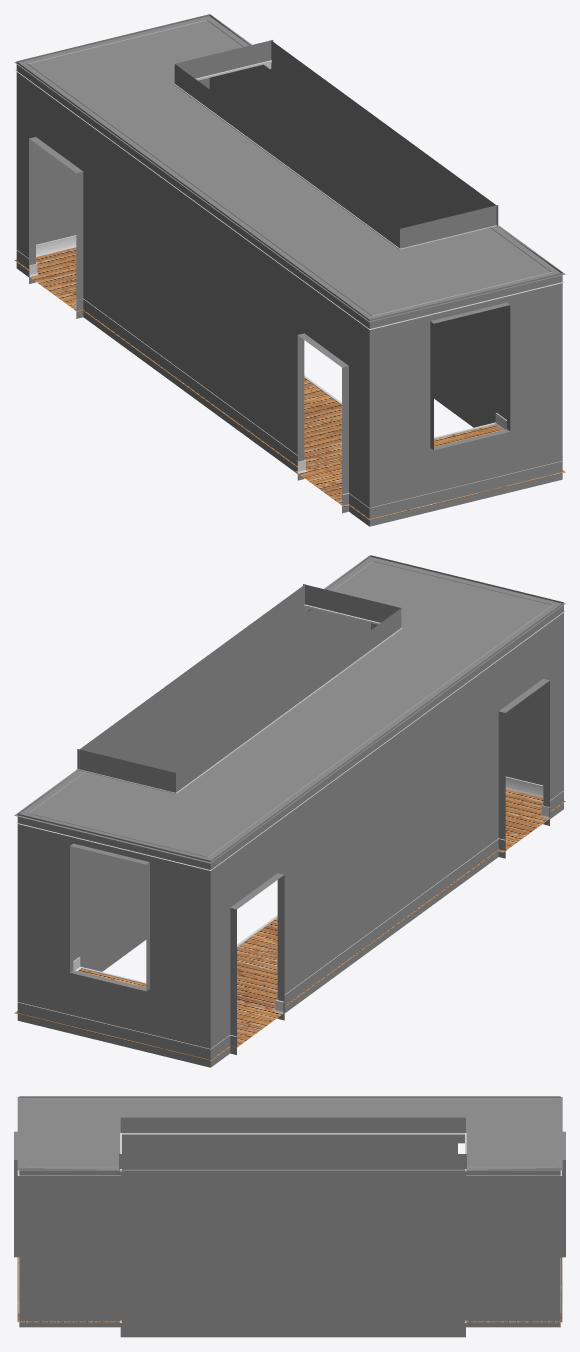
Rendered from BUILDING_stairwell_02.FBX.
3 renders of one model, top to bottom at view 1: azimuth 30°, elevation 25°; view 2: azimuth 150°, elevation 25°; view 3: azimuth 270°, elevation 25°, orthographic. The views are drawn at different scales.
Visible parts, largest first — view 1: BUILDING_stairwell_02_walls, BUILDING_stairwell_02_ceiling, BUILDING_stairwell_02_floor, BUILDING_stairwell_02_topEdge, BUILDING_stairwell_02_plinthe, BUILDING_stairwell_02_stairsEdgeTop; view 2: BUILDING_stairwell_02_walls, BUILDING_stairwell_02_ceiling, BUILDING_stairwell_02_floor, BUILDING_stairwell_02_topEdge, BUILDING_stairwell_02_plinthe, BUILDING_stairwell_02_stairsEdgeTop; view 3: BUILDING_stairwell_02_walls, BUILDING_stairwell_02_ceiling, BUILDING_stairwell_02_topEdge, BUILDING_stairwell_02_stairsEdgeTop, BUILDING_stairwell_02_floor.
Boxes of the visible parts, box(x1,y1,x2,y2) form: BUILDING_stairwell_02_walls: box(16, 14, 562, 526); BUILDING_stairwell_02_ceiling: box(14, 14, 565, 322); BUILDING_stairwell_02_floor: box(14, 247, 565, 519); BUILDING_stairwell_02_topEdge: box(15, 20, 564, 329); BUILDING_stairwell_02_plinthe: box(16, 235, 562, 508); BUILDING_stairwell_02_stairsEdgeTop: box(173, 60, 498, 249); BUILDING_stairwell_02_walls: box(17, 555, 563, 1067); BUILDING_stairwell_02_ceiling: box(14, 555, 565, 863); BUILDING_stairwell_02_floor: box(14, 789, 565, 1060); BUILDING_stairwell_02_topEdge: box(16, 561, 565, 870); BUILDING_stairwell_02_plinthe: box(17, 776, 564, 1049); BUILDING_stairwell_02_stairsEdgeTop: box(76, 604, 402, 793); BUILDING_stairwell_02_walls: box(14, 1096, 565, 1337); BUILDING_stairwell_02_ceiling: box(17, 1097, 562, 1170); BUILDING_stairwell_02_topEdge: box(17, 1099, 561, 1175); BUILDING_stairwell_02_stairsEdgeTop: box(120, 1132, 466, 1171); BUILDING_stairwell_02_floor: box(17, 1257, 562, 1322).
Size of the model in its own units: 438 by 495 by 1350.
2 materials, 1 textured.
